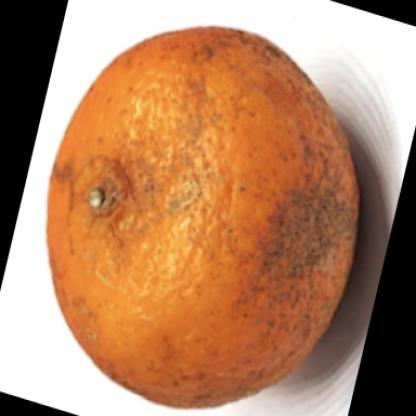rotten: (46, 26, 359, 409)
